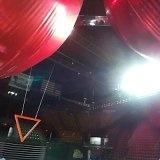Orange_Triangle_Gshape: (14, 115, 41, 142)
